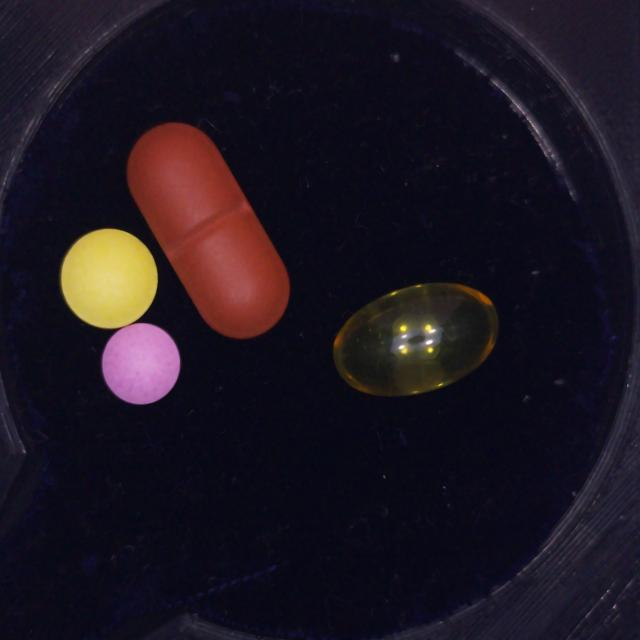Pill: (127, 123, 289, 338), (334, 283, 498, 396), (60, 229, 158, 329), (102, 323, 180, 405)
